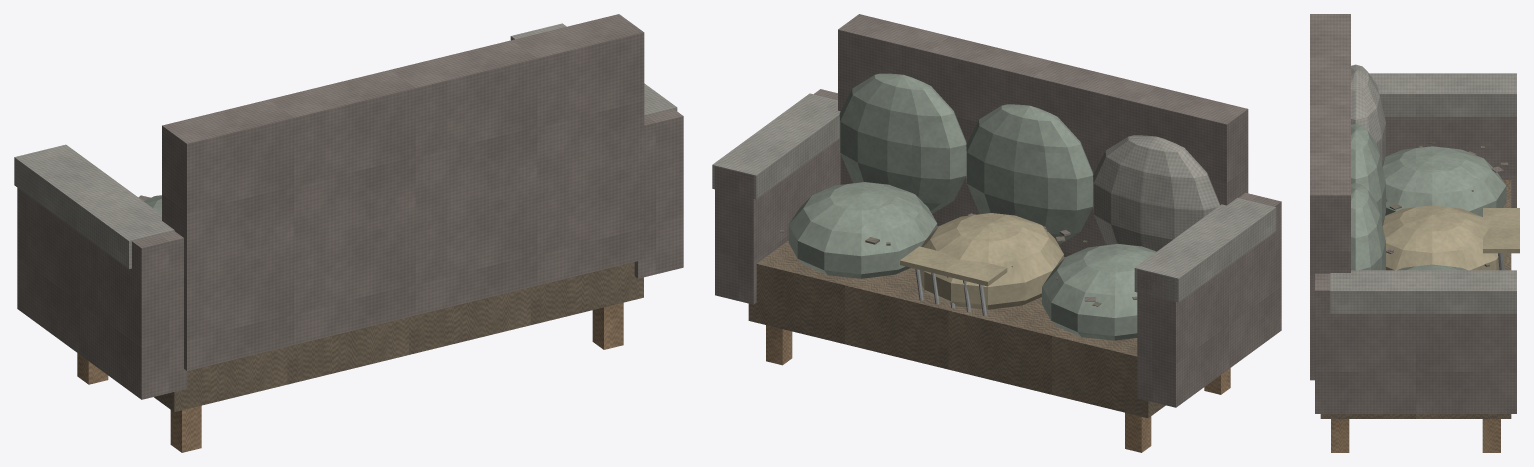
The model's file is sagging_sofa_torn.glb.
The picture shows the model from 3 angles, left to right: view 1: azimuth 30°, elevation 25°; view 2: azimuth 150°, elevation 25°; view 3: azimuth 270°, elevation 25°; orthographic projection. The views are drawn at different scales.
Parts seen in each view (by area): view 1: InteriorPropGeometry; view 2: InteriorPropGeometry; view 3: InteriorPropGeometry.
Boxes of the visible parts, x1,y1,x2,y2 form: InteriorPropGeometry: (14,14,683,452); InteriorPropGeometry: (712,14,1281,452); InteriorPropGeometry: (1310,14,1519,452).
Bounding box in the file's own units: 2.65 × 1.48 × 1.08.
8 materials, 8 textured.
